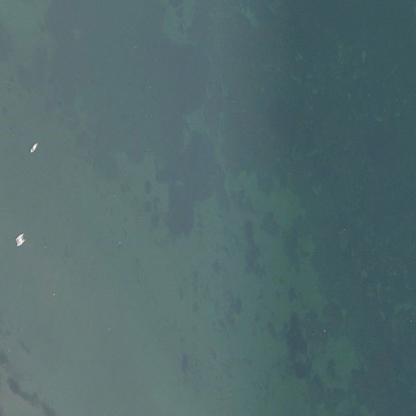ship: (11, 230, 29, 249), (27, 134, 39, 157)
